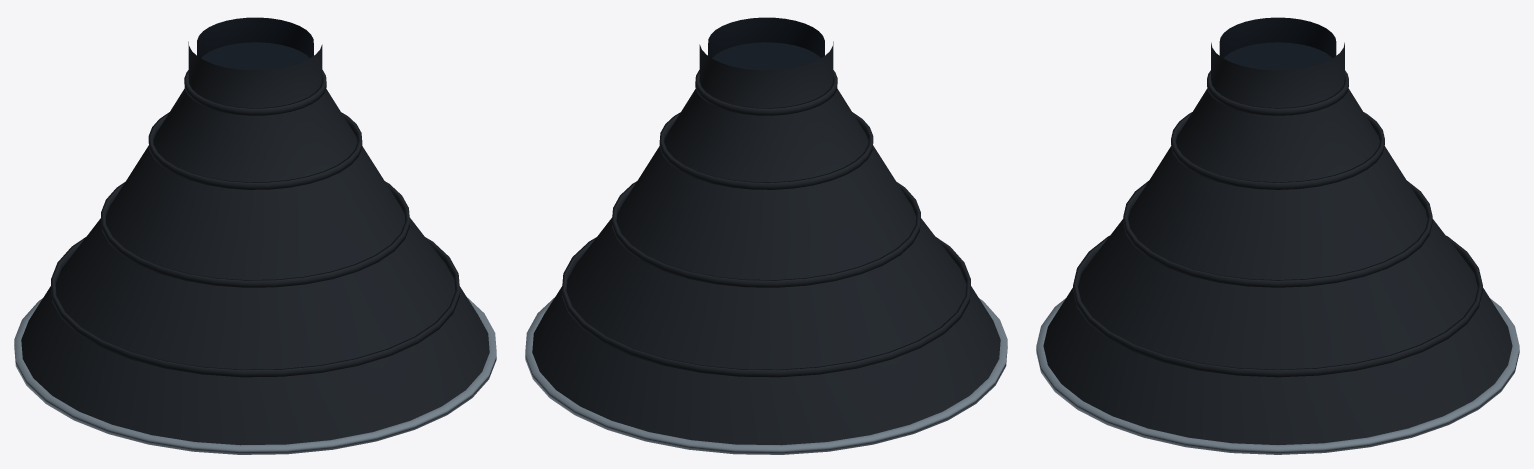
Rendered from dragon_draco.nose_thruster_02.glb.
3 renders of one model, left to right at view 1: azimuth 30°, elevation 25°; view 2: azimuth 150°, elevation 25°; view 3: azimuth 270°, elevation 25°, orthographic.
Visible parts, largest first — view 1: dragon_draco.nose_thruster_02.bell.mesh_Carbon_composite, dragon_draco.nose_thruster_02.bell.mesh_Machined_steel, dragon_draco.nose_thruster_02.bell.mesh_Shadowed_interior; view 2: dragon_draco.nose_thruster_02.bell.mesh_Carbon_composite, dragon_draco.nose_thruster_02.bell.mesh_Machined_steel, dragon_draco.nose_thruster_02.bell.mesh_Shadowed_interior; view 3: dragon_draco.nose_thruster_02.bell.mesh_Carbon_composite, dragon_draco.nose_thruster_02.bell.mesh_Machined_steel, dragon_draco.nose_thruster_02.bell.mesh_Shadowed_interior.
Boxes of the visible parts, x1,y1,x2,y2 form: dragon_draco.nose_thruster_02.bell.mesh_Carbon_composite: (21,41,489,445); dragon_draco.nose_thruster_02.bell.mesh_Machined_steel: (14,297,496,454); dragon_draco.nose_thruster_02.bell.mesh_Shadowed_interior: (197,17,313,70); dragon_draco.nose_thruster_02.bell.mesh_Carbon_composite: (532,41,1000,445); dragon_draco.nose_thruster_02.bell.mesh_Machined_steel: (525,297,1007,454); dragon_draco.nose_thruster_02.bell.mesh_Shadowed_interior: (708,17,824,70); dragon_draco.nose_thruster_02.bell.mesh_Carbon_composite: (1043,42,1512,444); dragon_draco.nose_thruster_02.bell.mesh_Machined_steel: (1036,298,1519,454); dragon_draco.nose_thruster_02.bell.mesh_Shadowed_interior: (1219,17,1336,70).
Bounding box in the file's own units: 0.1255 × 0.089 × 0.1255.
